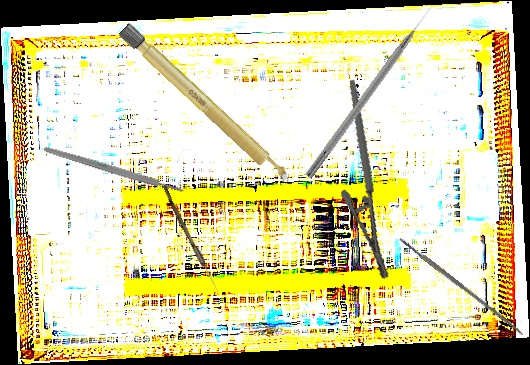Hook Surgical: (304, 2, 437, 181)
Needle Holder: (317, 78, 422, 282)
Scalpel Handle: (117, 22, 295, 190), (397, 235, 526, 337), (42, 144, 185, 196)
Surgical Spoon: (159, 185, 222, 293)
